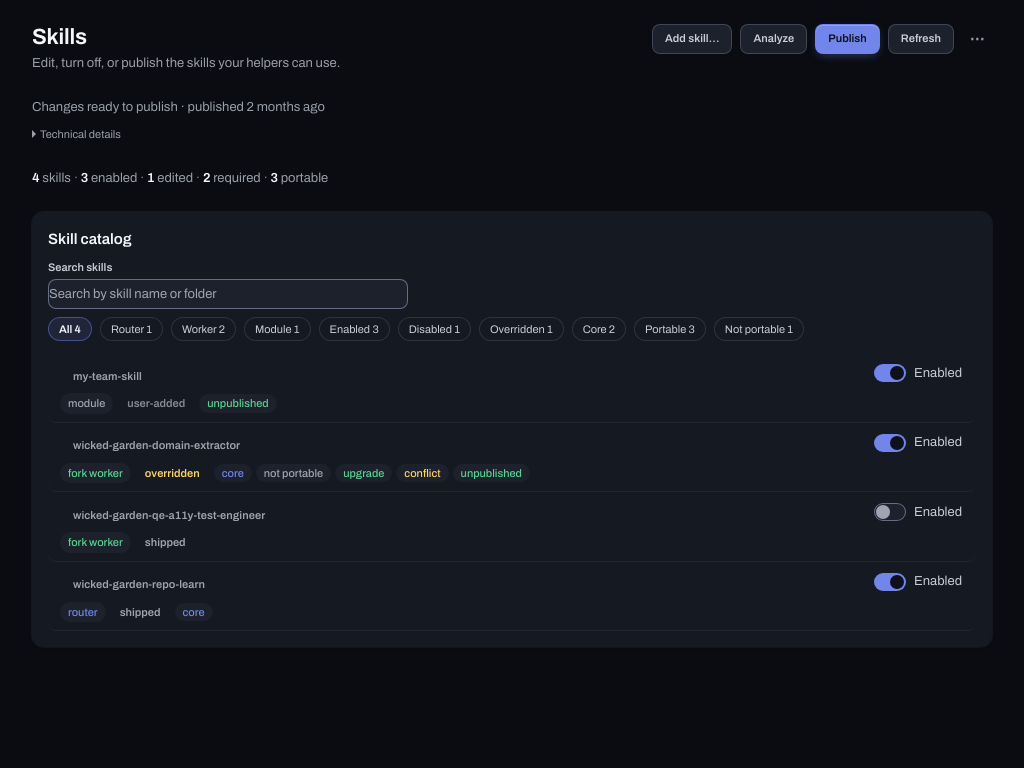
SkillsPage — the row switch (enable/disable through the guards, CAS) › a blocked disable (a core skill) renders the findings and reloads nothing — the switch stays on
The image size is (1024, 768).
Click the 4th switch with test id "skills-toggle" at point(918, 582), box left=872, top=570, right=964, bottom=594
(page scrolled)
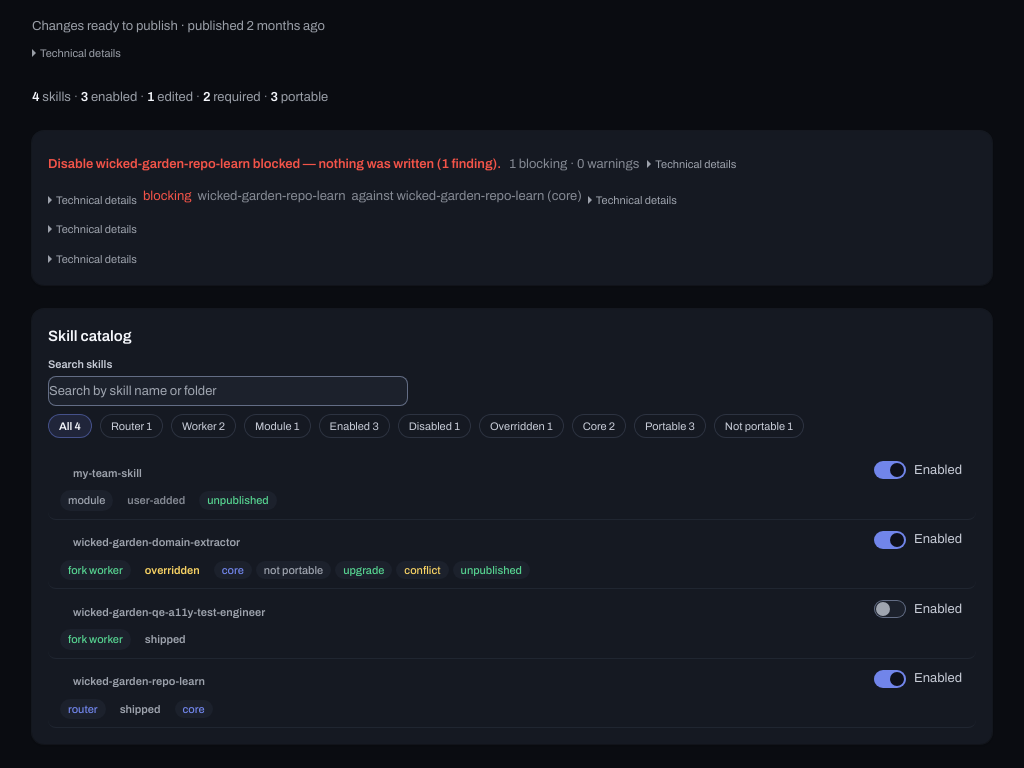
Check: the text with test id "skills-findings-tally" reads "1 blocking · 0 warnings", box left=509, top=155, right=639, bottom=175
Check: the text with test id "skills-finding-skill" reads "wicked-garden-repo-learn", box left=198, top=189, right=346, bottom=203
